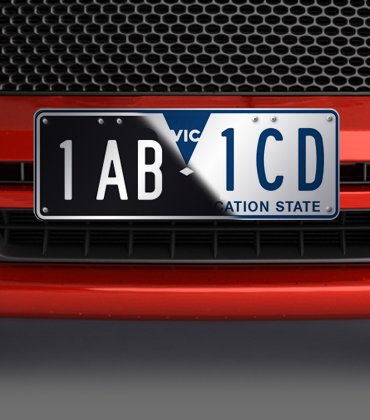license plate: (32, 103, 339, 230)
